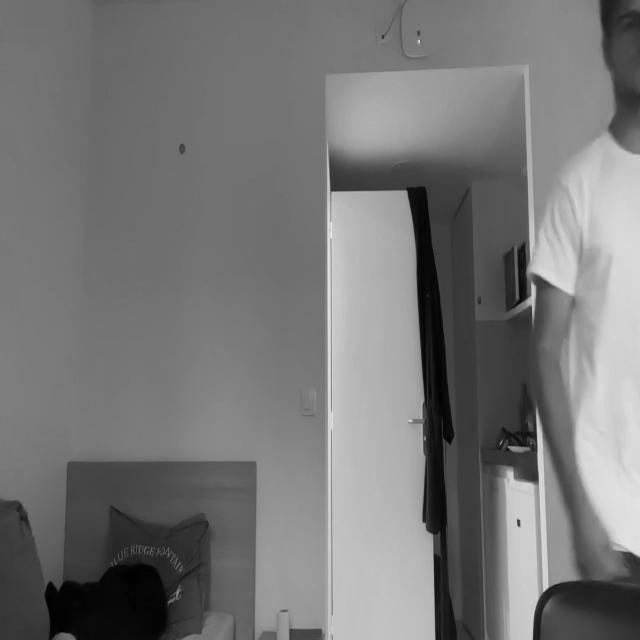hand: (574, 504, 628, 582)
shoulder: (536, 162, 587, 264)
